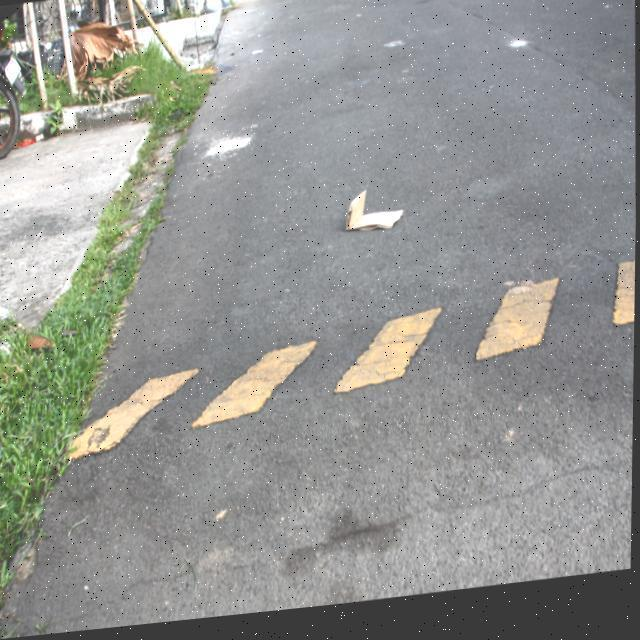Paper_Bag: (346, 193, 404, 242)
